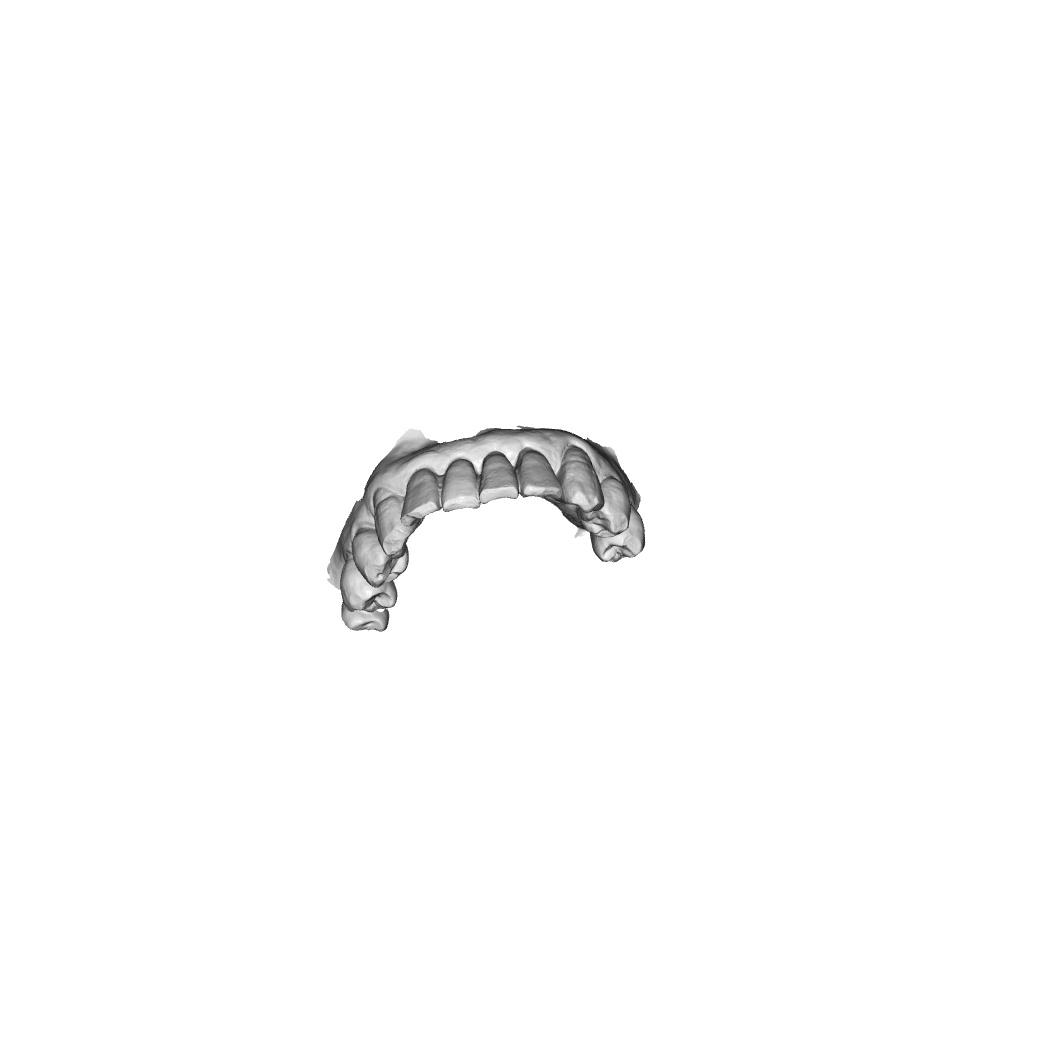canine: (371, 487, 425, 559), (559, 446, 605, 513)
incisor: (514, 446, 564, 501), (478, 449, 520, 506), (439, 457, 481, 513), (400, 467, 442, 521)
molar: (341, 601, 391, 634)
premolar: (351, 527, 410, 588), (575, 476, 632, 539), (589, 504, 646, 564), (339, 558, 398, 614)
